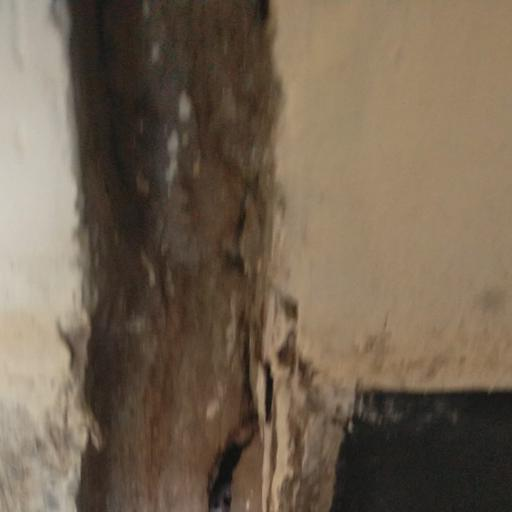spalling: (45, 0, 284, 512), (322, 372, 512, 512)
